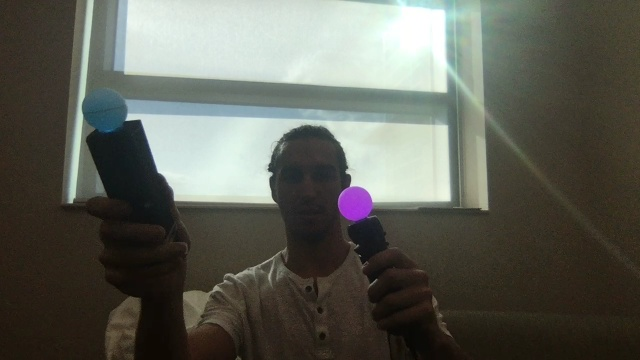wand: (83, 88, 130, 130), (338, 187, 375, 220)
